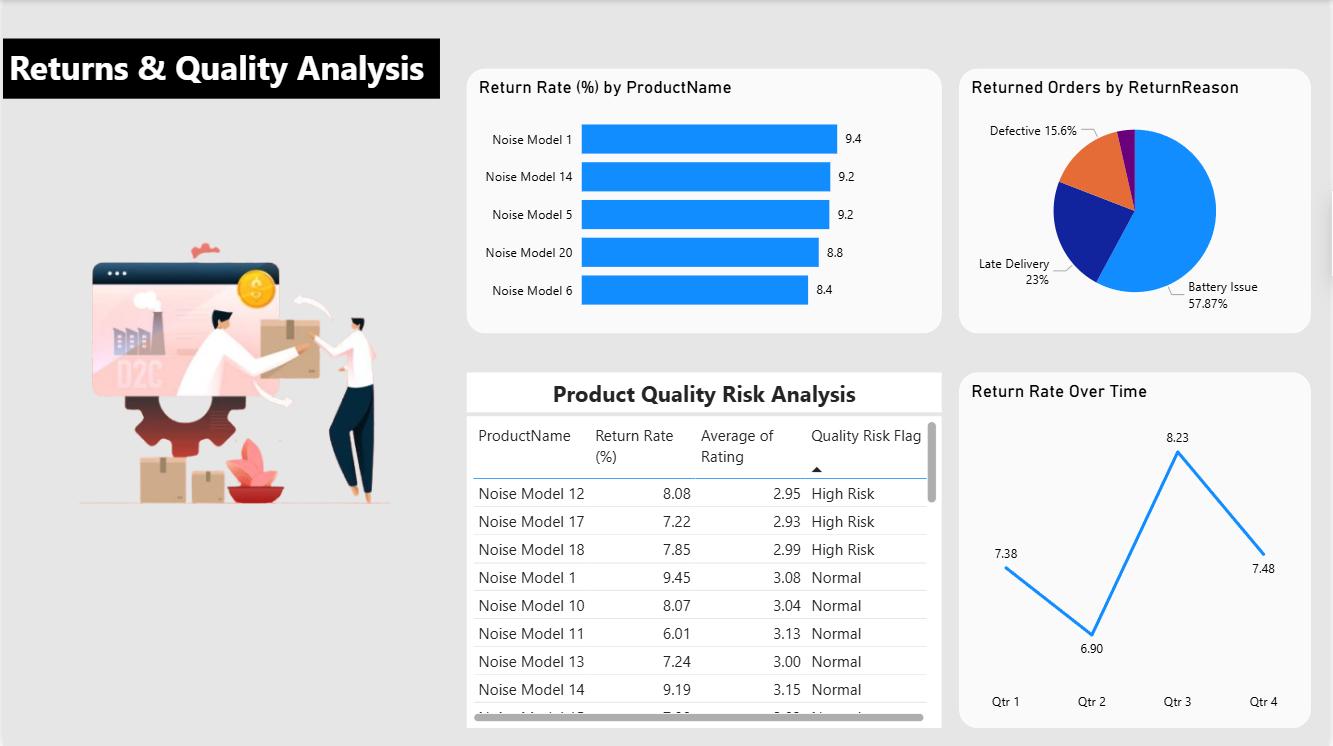

What the dashboard file says about the page in this screenshot:
{"tool":"powerbi","page":{"name":"Returns & Quality Analysis","canvas":[1280,720],"ordinal":4},"visuals":[{"type":"textbox","box":[0,37,421.3,57.6],"z":0},{"type":"barChart","fields":{"Category":["products.ProductName"],"Y":["returns.Return Rate (%)"]},"box":[447.3,65.9,458.3,255.2],"z":1000},{"type":"image","box":[0,124.9,447.3,469.3],"z":2000},{"type":"pieChart","fields":{"Category":["returns.ReturnReason"],"Y":["returns.Returned Orders"]},"box":[923.5,65.9,338.9,255.2],"z":3000},{"type":"tableEx","fields":{"Values":["products.ProductName","returns.Return Rate (%)","Avg(reviews.Rating)","returns.Quality Risk Flag"]},"box":[447.3,402.1,458.3,300.5],"z":4000},{"type":"textbox","box":[447.3,359.5,458.3,38.4],"z":5000},{"type":"lineChart","title":"Return Rate Over Time","fields":{"Y":["returns.Return Rate (%)"],"Category":["sales.OrderDate.Variation.Date Hierarchy.Quarter"]},"box":[923.5,359.5,338.9,343.1],"z":6000}]}

Visuals, with their boxes in screenshot pixels (x1, y1, x2, y2), scaled from the page's 1280x720 canvas onto the 1333x746 screenshot:
textbox: box(0, 38, 439, 98)
barChart - products.ProductName x returns.Return Rate (%): box(466, 68, 943, 333)
image: box(0, 129, 466, 616)
pieChart - returns.ReturnReason x returns.Returned Orders: box(962, 68, 1315, 333)
tableEx - products.ProductName x returns.Return Rate (%): box(466, 417, 943, 728)
textbox: box(466, 372, 943, 412)
"Return Rate Over Time" lineChart: box(962, 372, 1315, 728)
